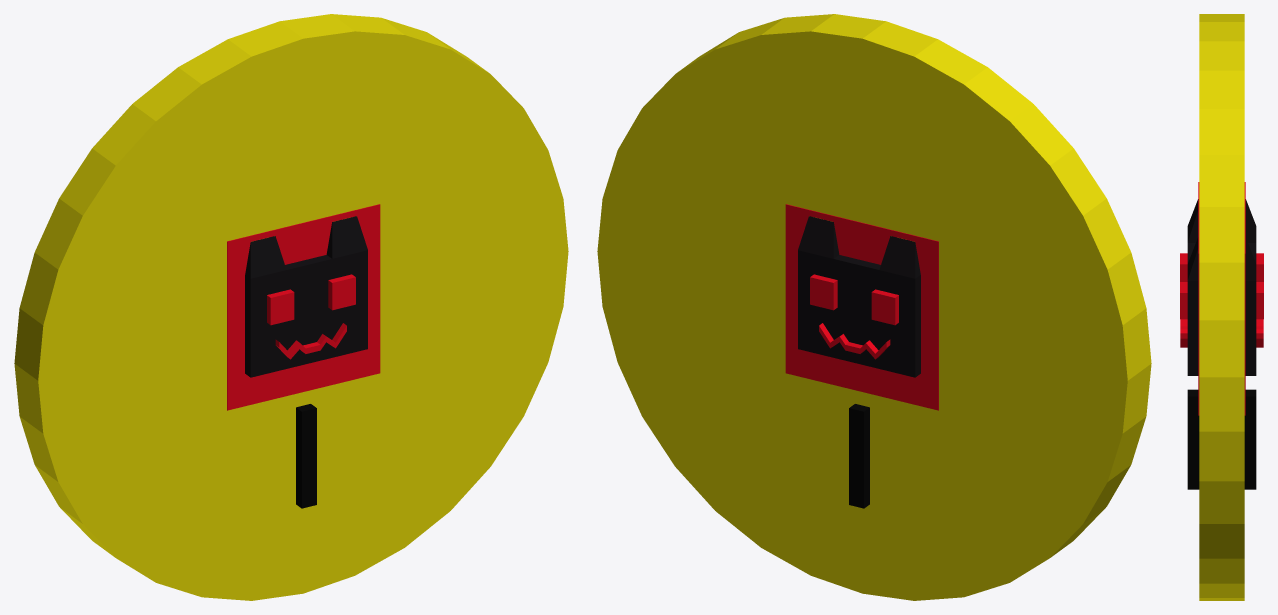
Rendered from BossRoom1.fbx.
3 views of the same model, side by side, from view 1: azimuth 30°, elevation 25°; view 2: azimuth 150°, elevation 25°; view 3: azimuth 270°, elevation 25° (orthographic). The views are drawn at different scales.
Parts seen in each view (by area): view 1: Cylinder, Cube; view 2: Cylinder, Cube; view 3: Cylinder, Cube.
Boxes of the visible parts, left/top/right/bottom form: Cylinder: left=14, top=14, right=568, bottom=600; Cube: left=296, top=404, right=316, bottom=508; Cylinder: left=597, top=14, right=1151, bottom=600; Cube: left=849, top=404, right=869, bottom=508; Cylinder: left=1180, top=14, right=1263, bottom=600; Cube: left=1187, top=389, right=1256, bottom=489.
Size of the model in its own units: 200 by 200 by 28.53.
